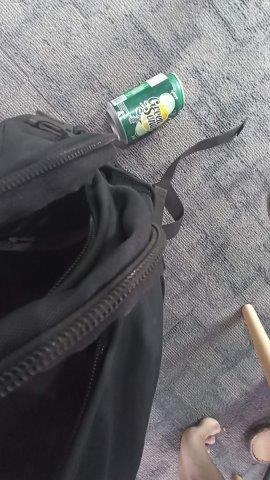kaleng: (106, 72, 185, 145)
